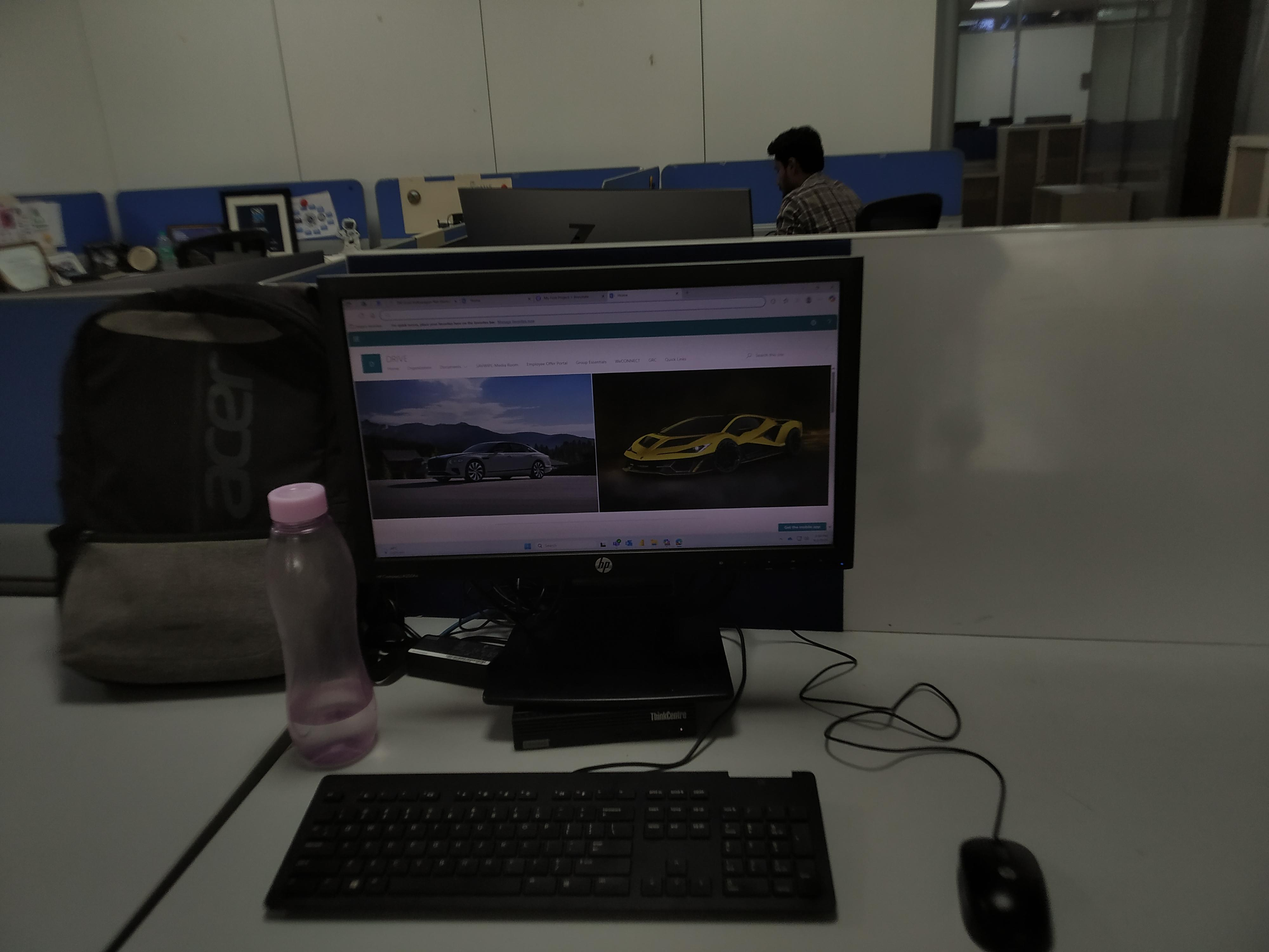bag: (42, 279, 358, 691)
bottle: (260, 476, 382, 772)
desktop: (312, 252, 871, 705)
keyboard: (255, 765, 843, 930)
mouse: (943, 827, 1068, 952)
